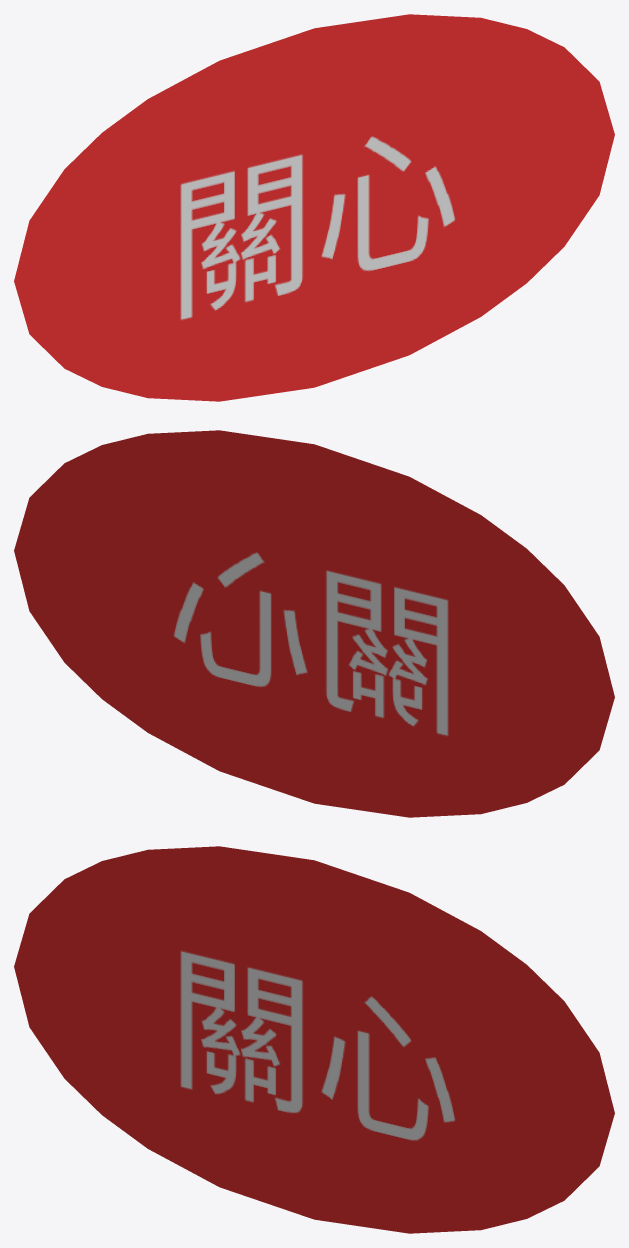
Rendered from Q1.YES.gltf.
The picture shows the model from 3 angles, top to bottom: view 1: azimuth 30°, elevation 25°; view 2: azimuth 150°, elevation 25°; view 3: azimuth 330°, elevation 25°; orthographic projection.
Visible parts, largest first — view 1: Q1:YES; view 2: Q1:YES; view 3: Q1:YES.
Boxes of the visible parts, x1,y1,x2,y2 form: Q1:YES: [14, 14, 614, 401]; Q1:YES: [14, 430, 614, 817]; Q1:YES: [14, 846, 614, 1233].
Size of the model in its own units: 9.11 by 5.21 by 1.5e-06.
Materials: 1 (1 with a texture image).
